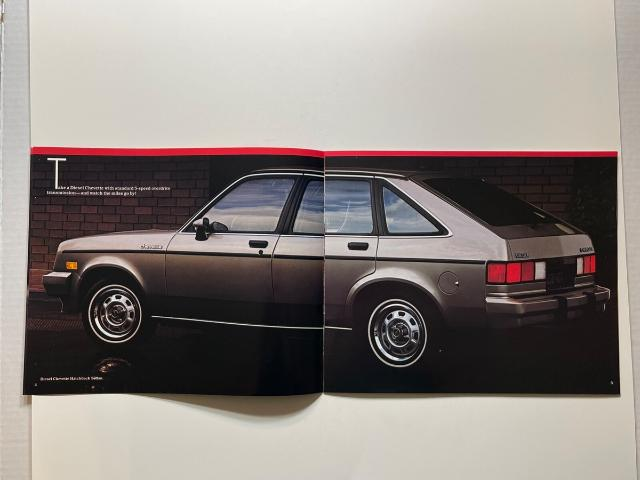chevette-1983: (43, 156, 610, 390)
